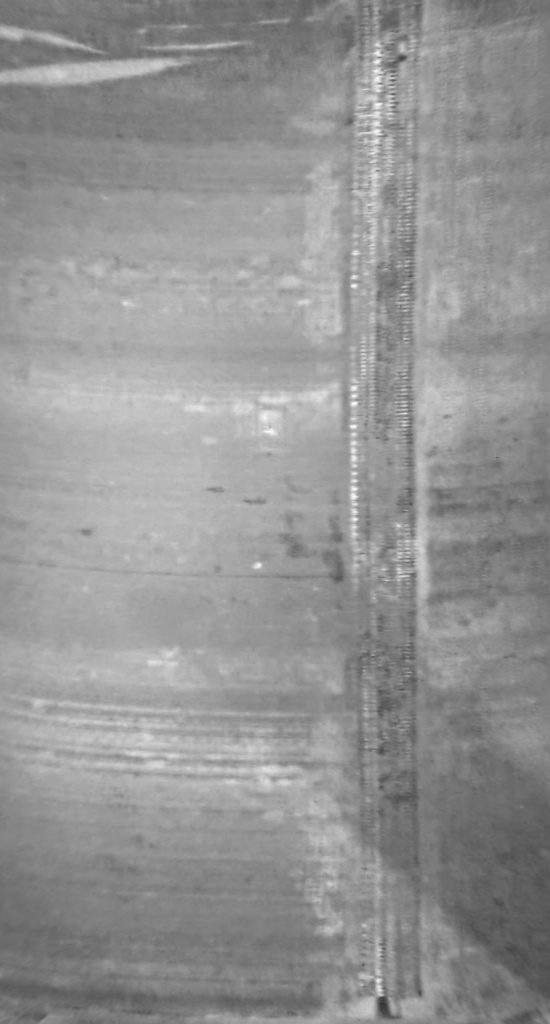splice: (336, 1, 433, 1020)
